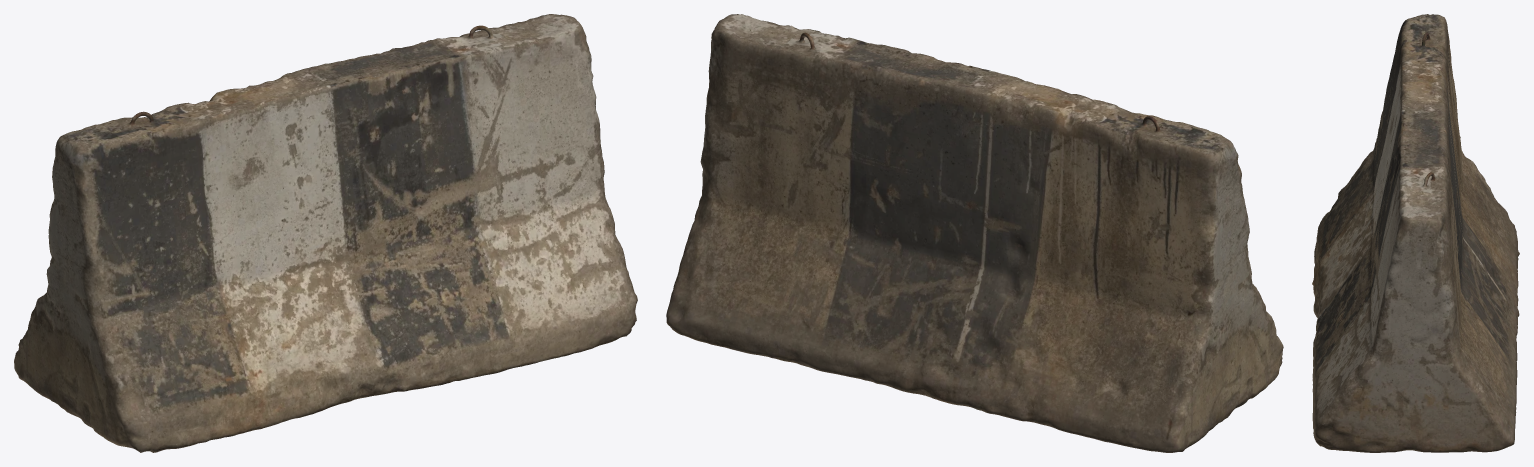
File: concrete_road_barrier.glb
3 renders of one model, left to right at view 1: azimuth 30°, elevation 25°; view 2: azimuth 150°, elevation 25°; view 3: azimuth 270°, elevation 25°, orthographic. The views are drawn at different scales.
Visible parts, largest first — view 1: concrete_road_barrier; view 2: concrete_road_barrier; view 3: concrete_road_barrier.
Boxes of the visible parts, x1,y1,x2,y2 form: concrete_road_barrier: (14,14,637,452); concrete_road_barrier: (666,14,1283,452); concrete_road_barrier: (1312,14,1519,452).
Size of the model in its own units: 1.55 by 0.8311 by 0.6388.
1 material, 1 textured.
